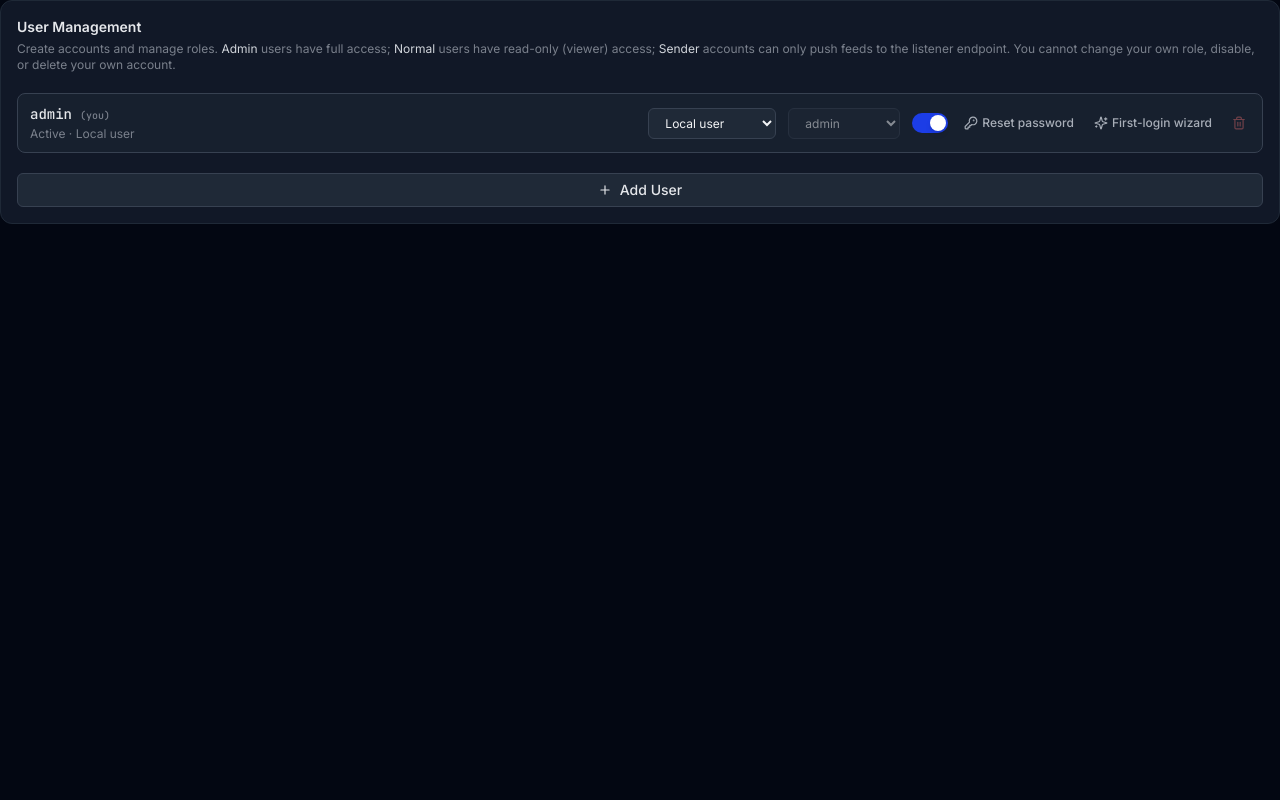
it: UserManagementTab (prompts-045) › creates a new user with a server-generated password (issue-local-038) and reveals it once
The image size is (1280, 800).
Click the button "Add User" at {"x": 640, "y": 190}, box x1=17 y1=173 x2=1263 y2=207
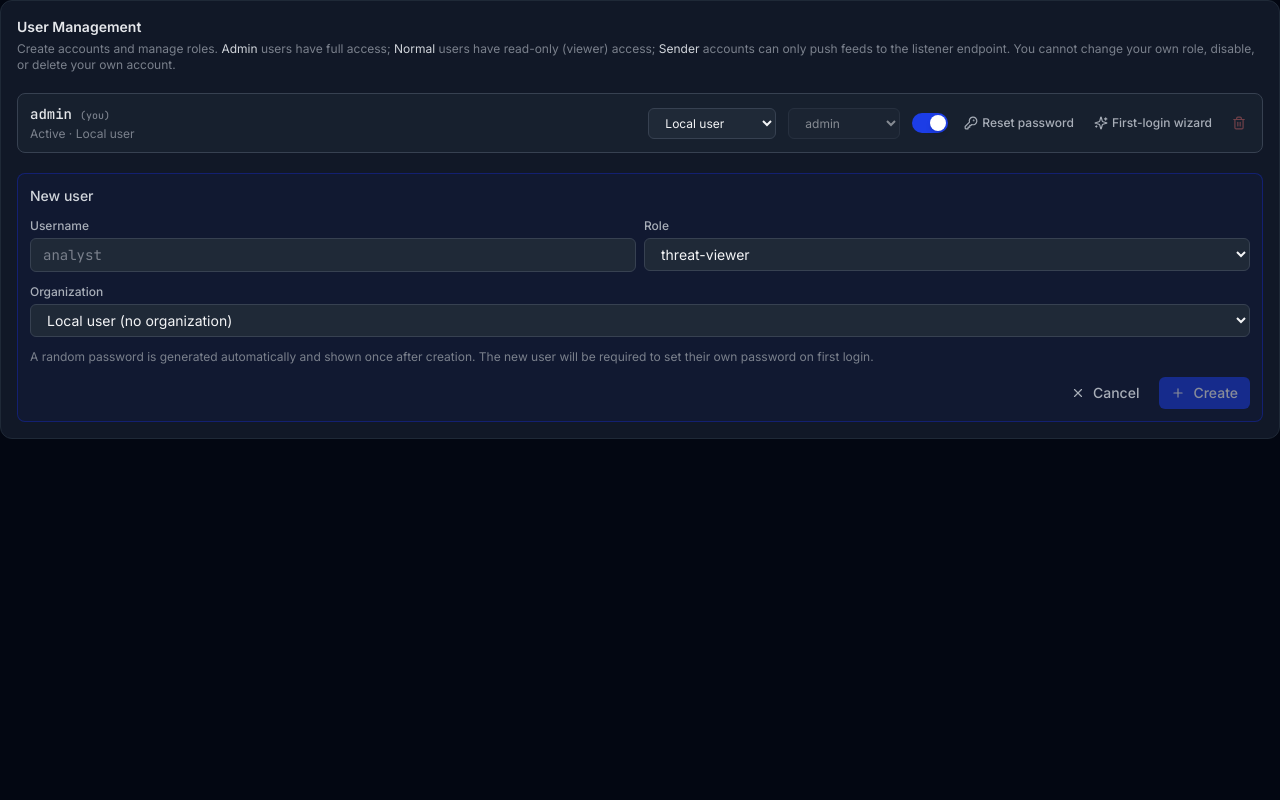
Type "newbie" into the field labelled "Username" at {"x": 333, "y": 255}, box x1=30 y1=238 x2=636 y2=272
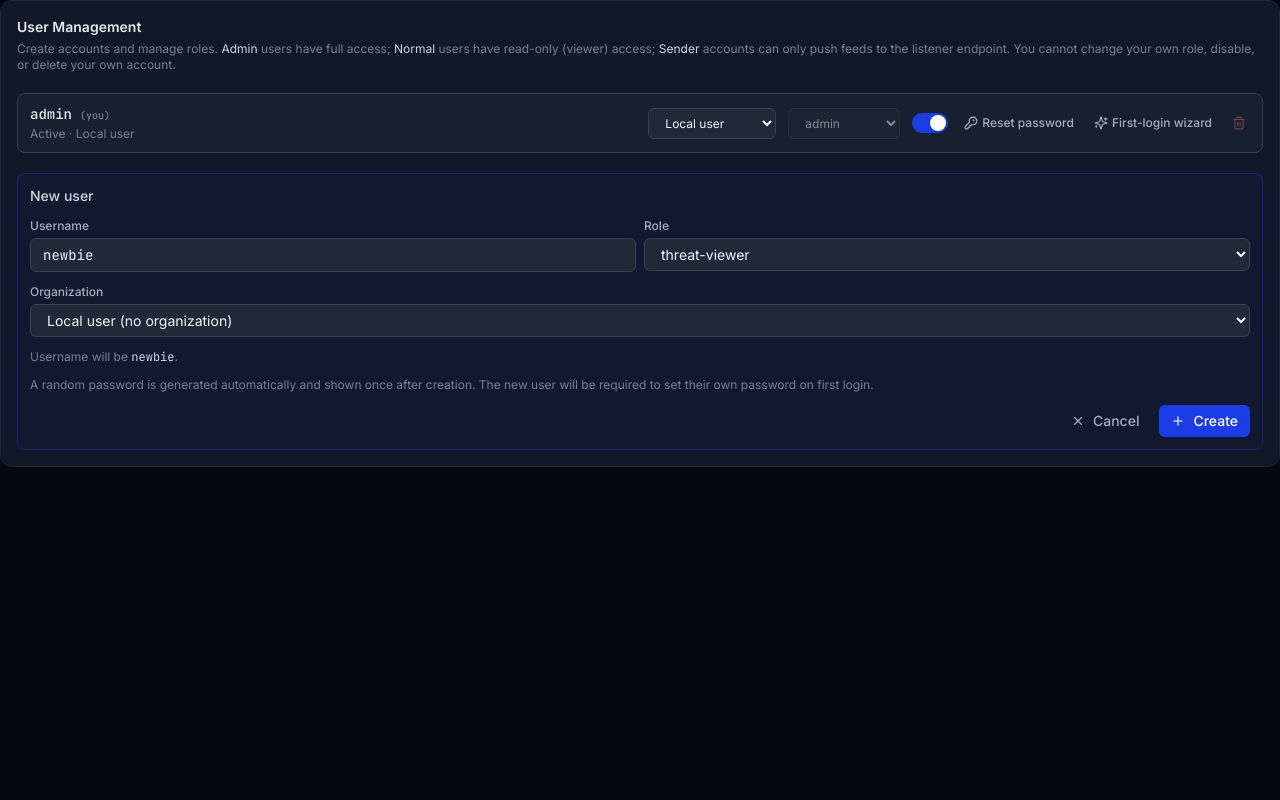
Click the button "Create" at {"x": 1205, "y": 421}, box x1=1159 y1=405 x2=1250 y2=437
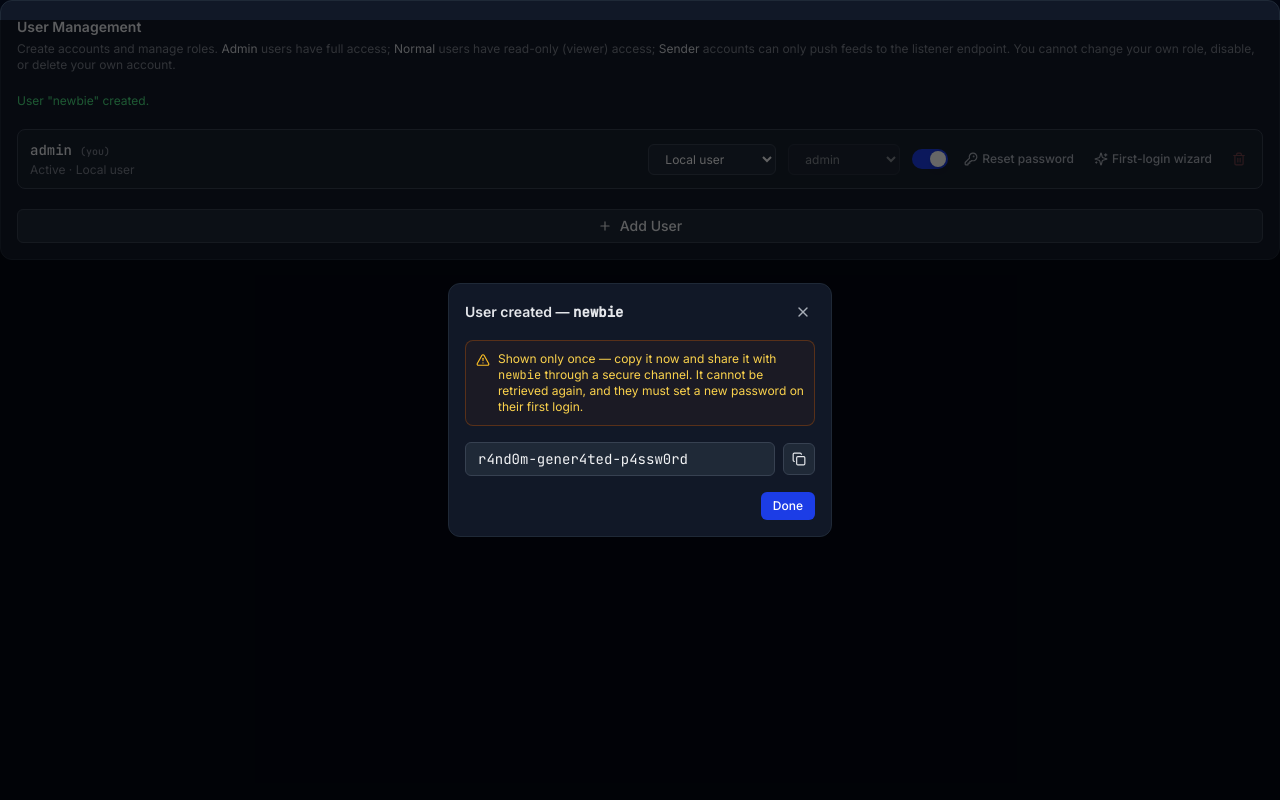
Now the field named "Generated password" holds "r4nd0m-gener4ted-p4ssw0rd", box x1=465 y1=442 x2=775 y2=476
